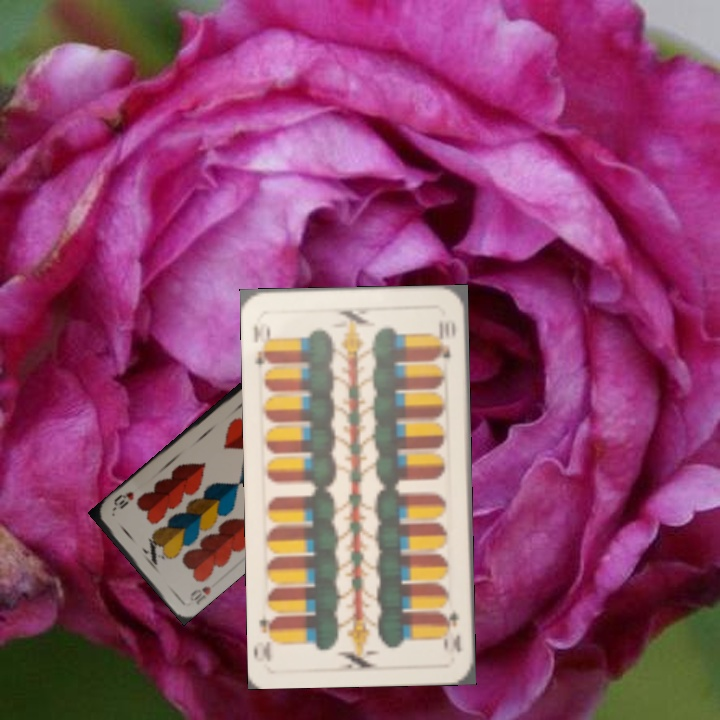E10: (249, 318, 275, 372), (439, 606, 464, 656)
H10: (185, 582, 214, 607)
